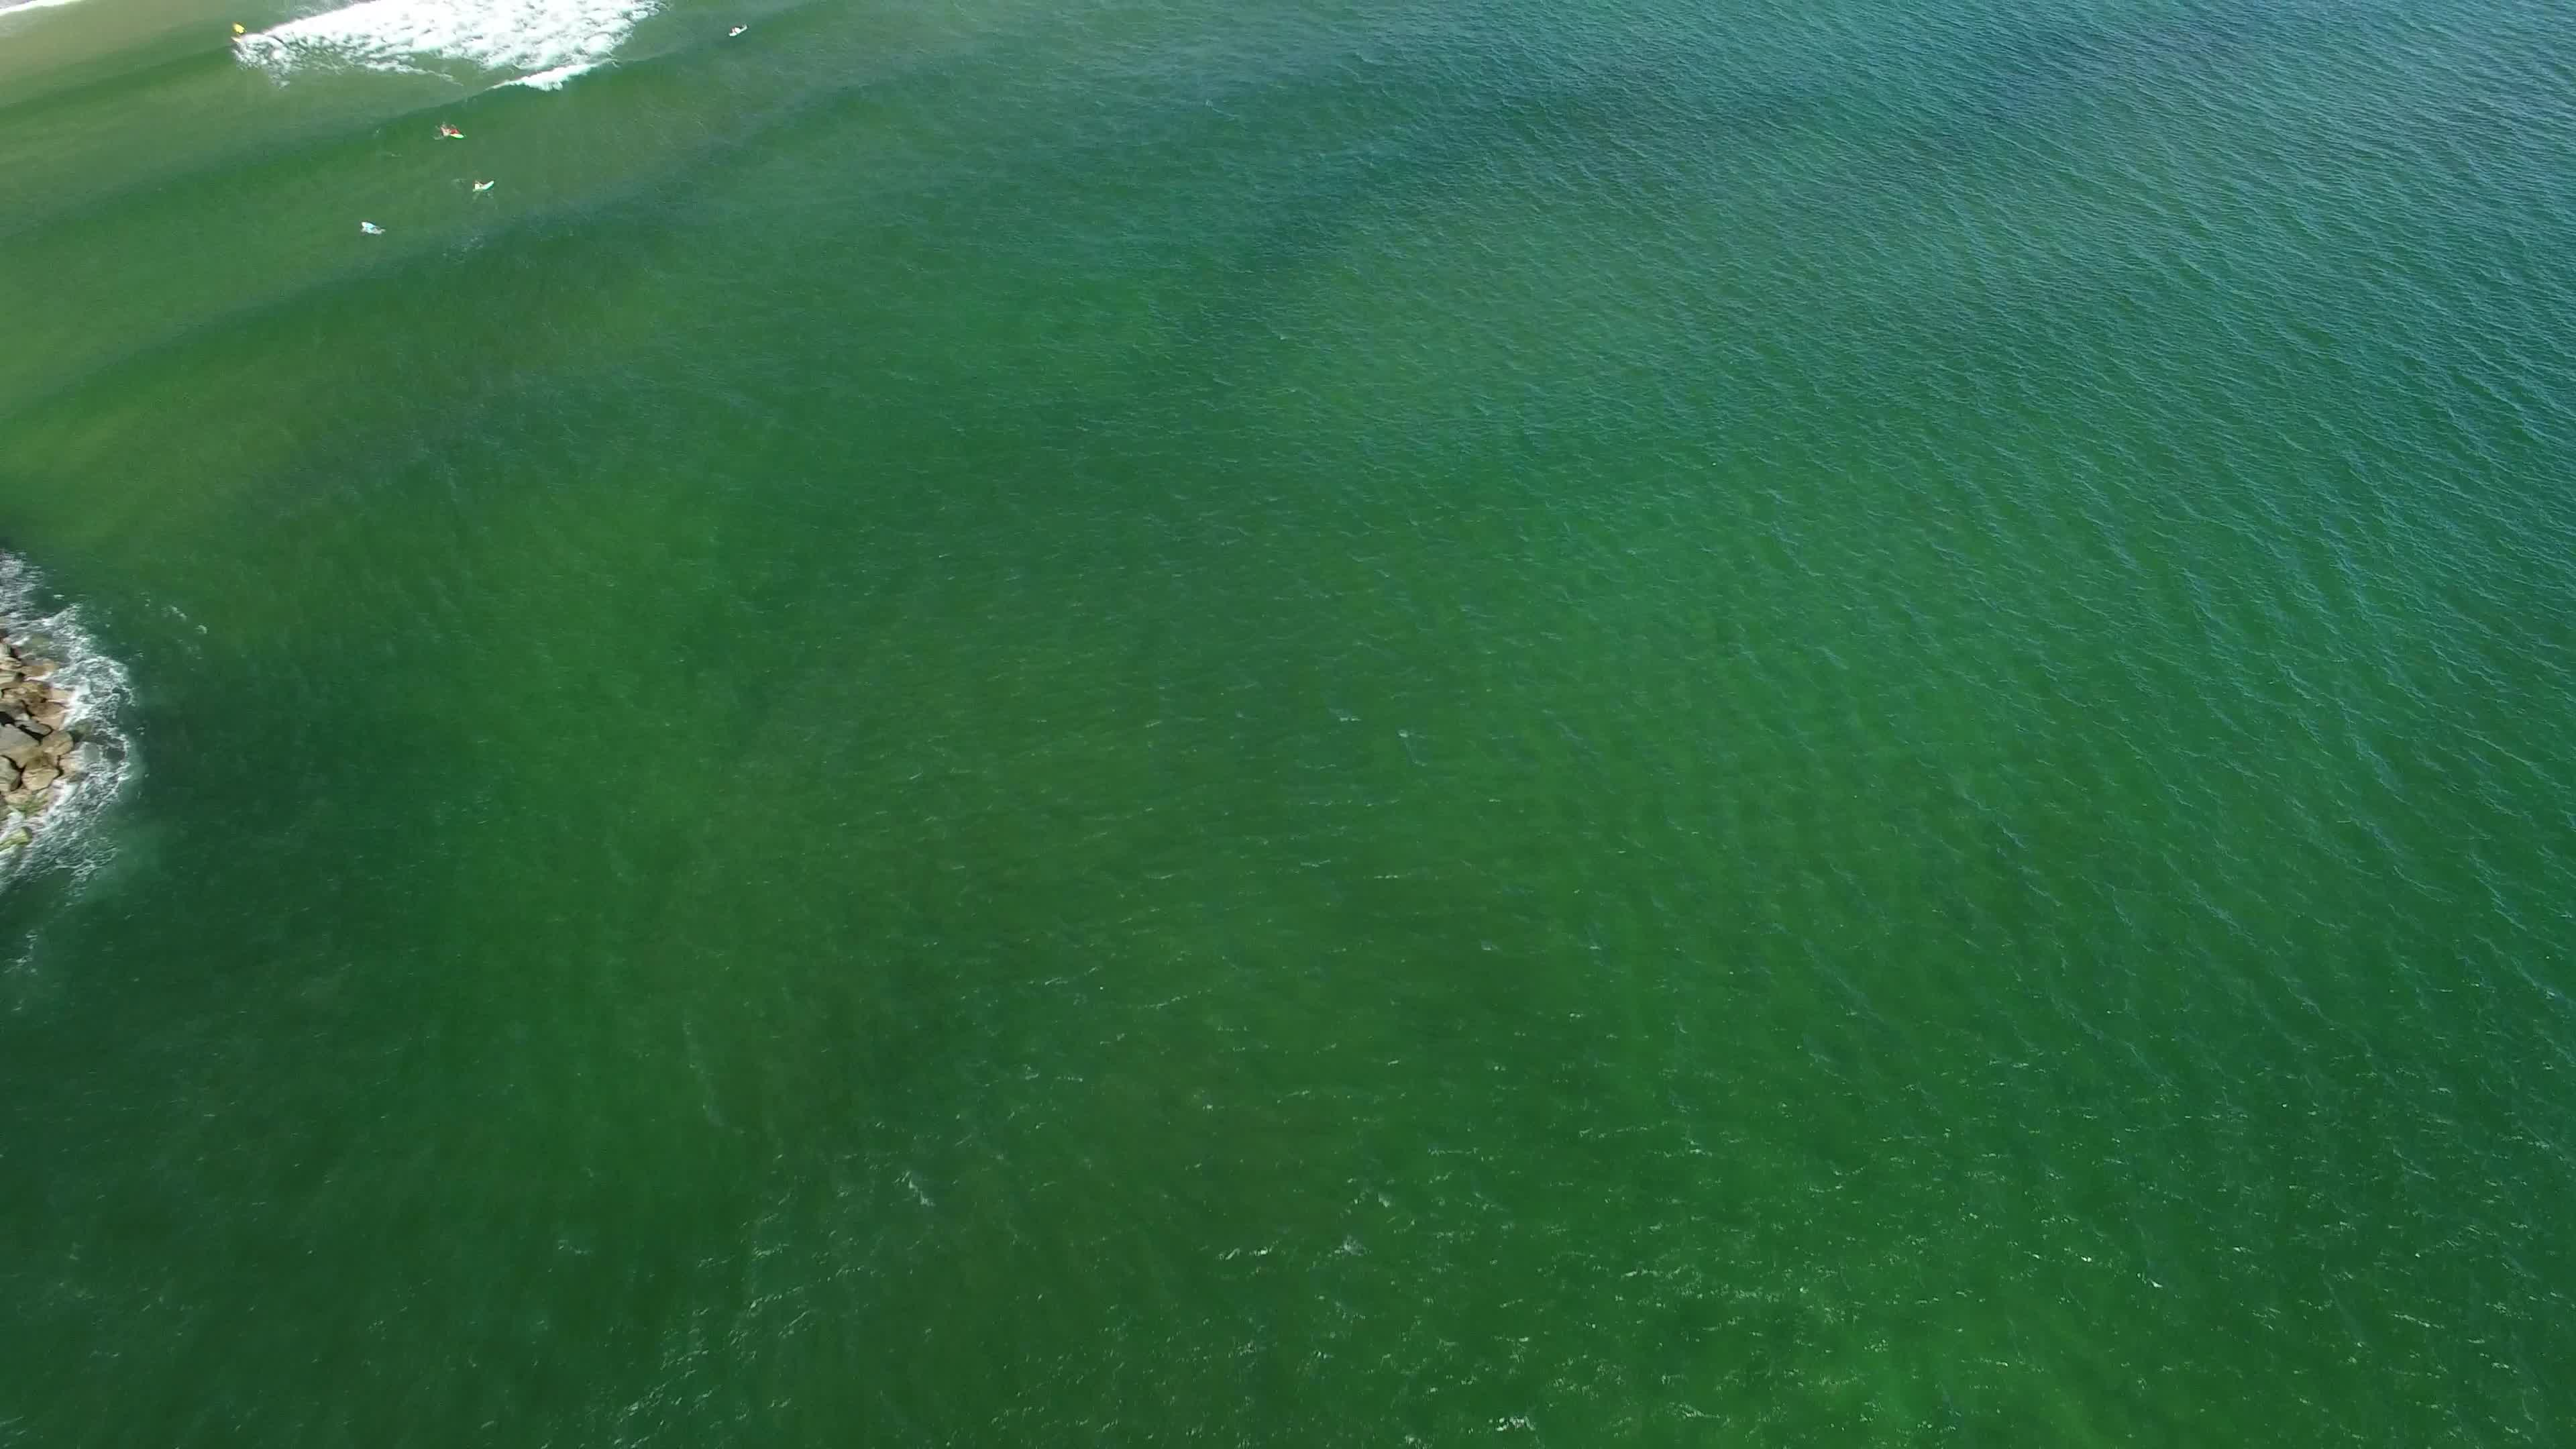surfer: (219, 19, 262, 50), (432, 119, 471, 145), (724, 19, 752, 42), (472, 179, 497, 198)
